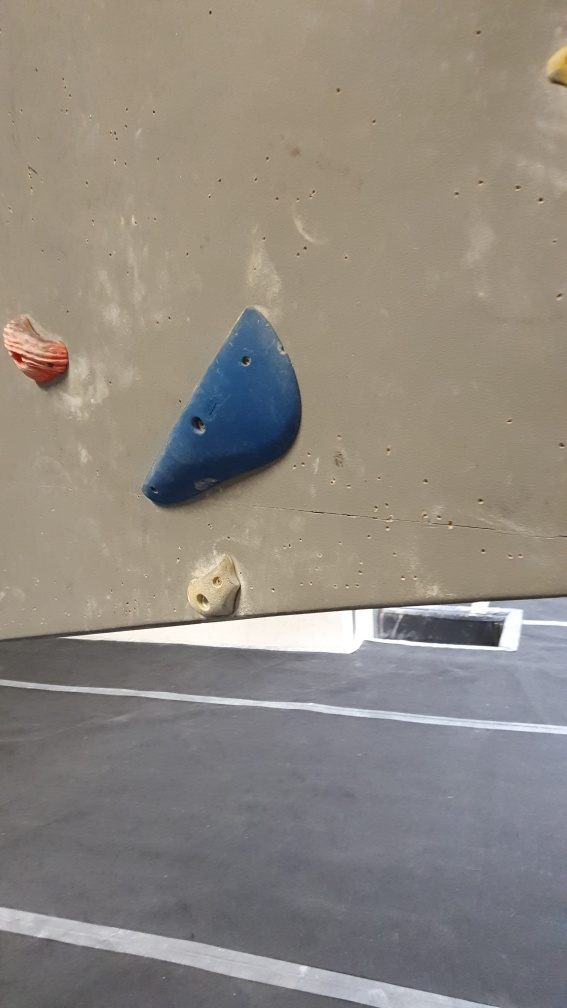Jug: (1, 305, 71, 391)
